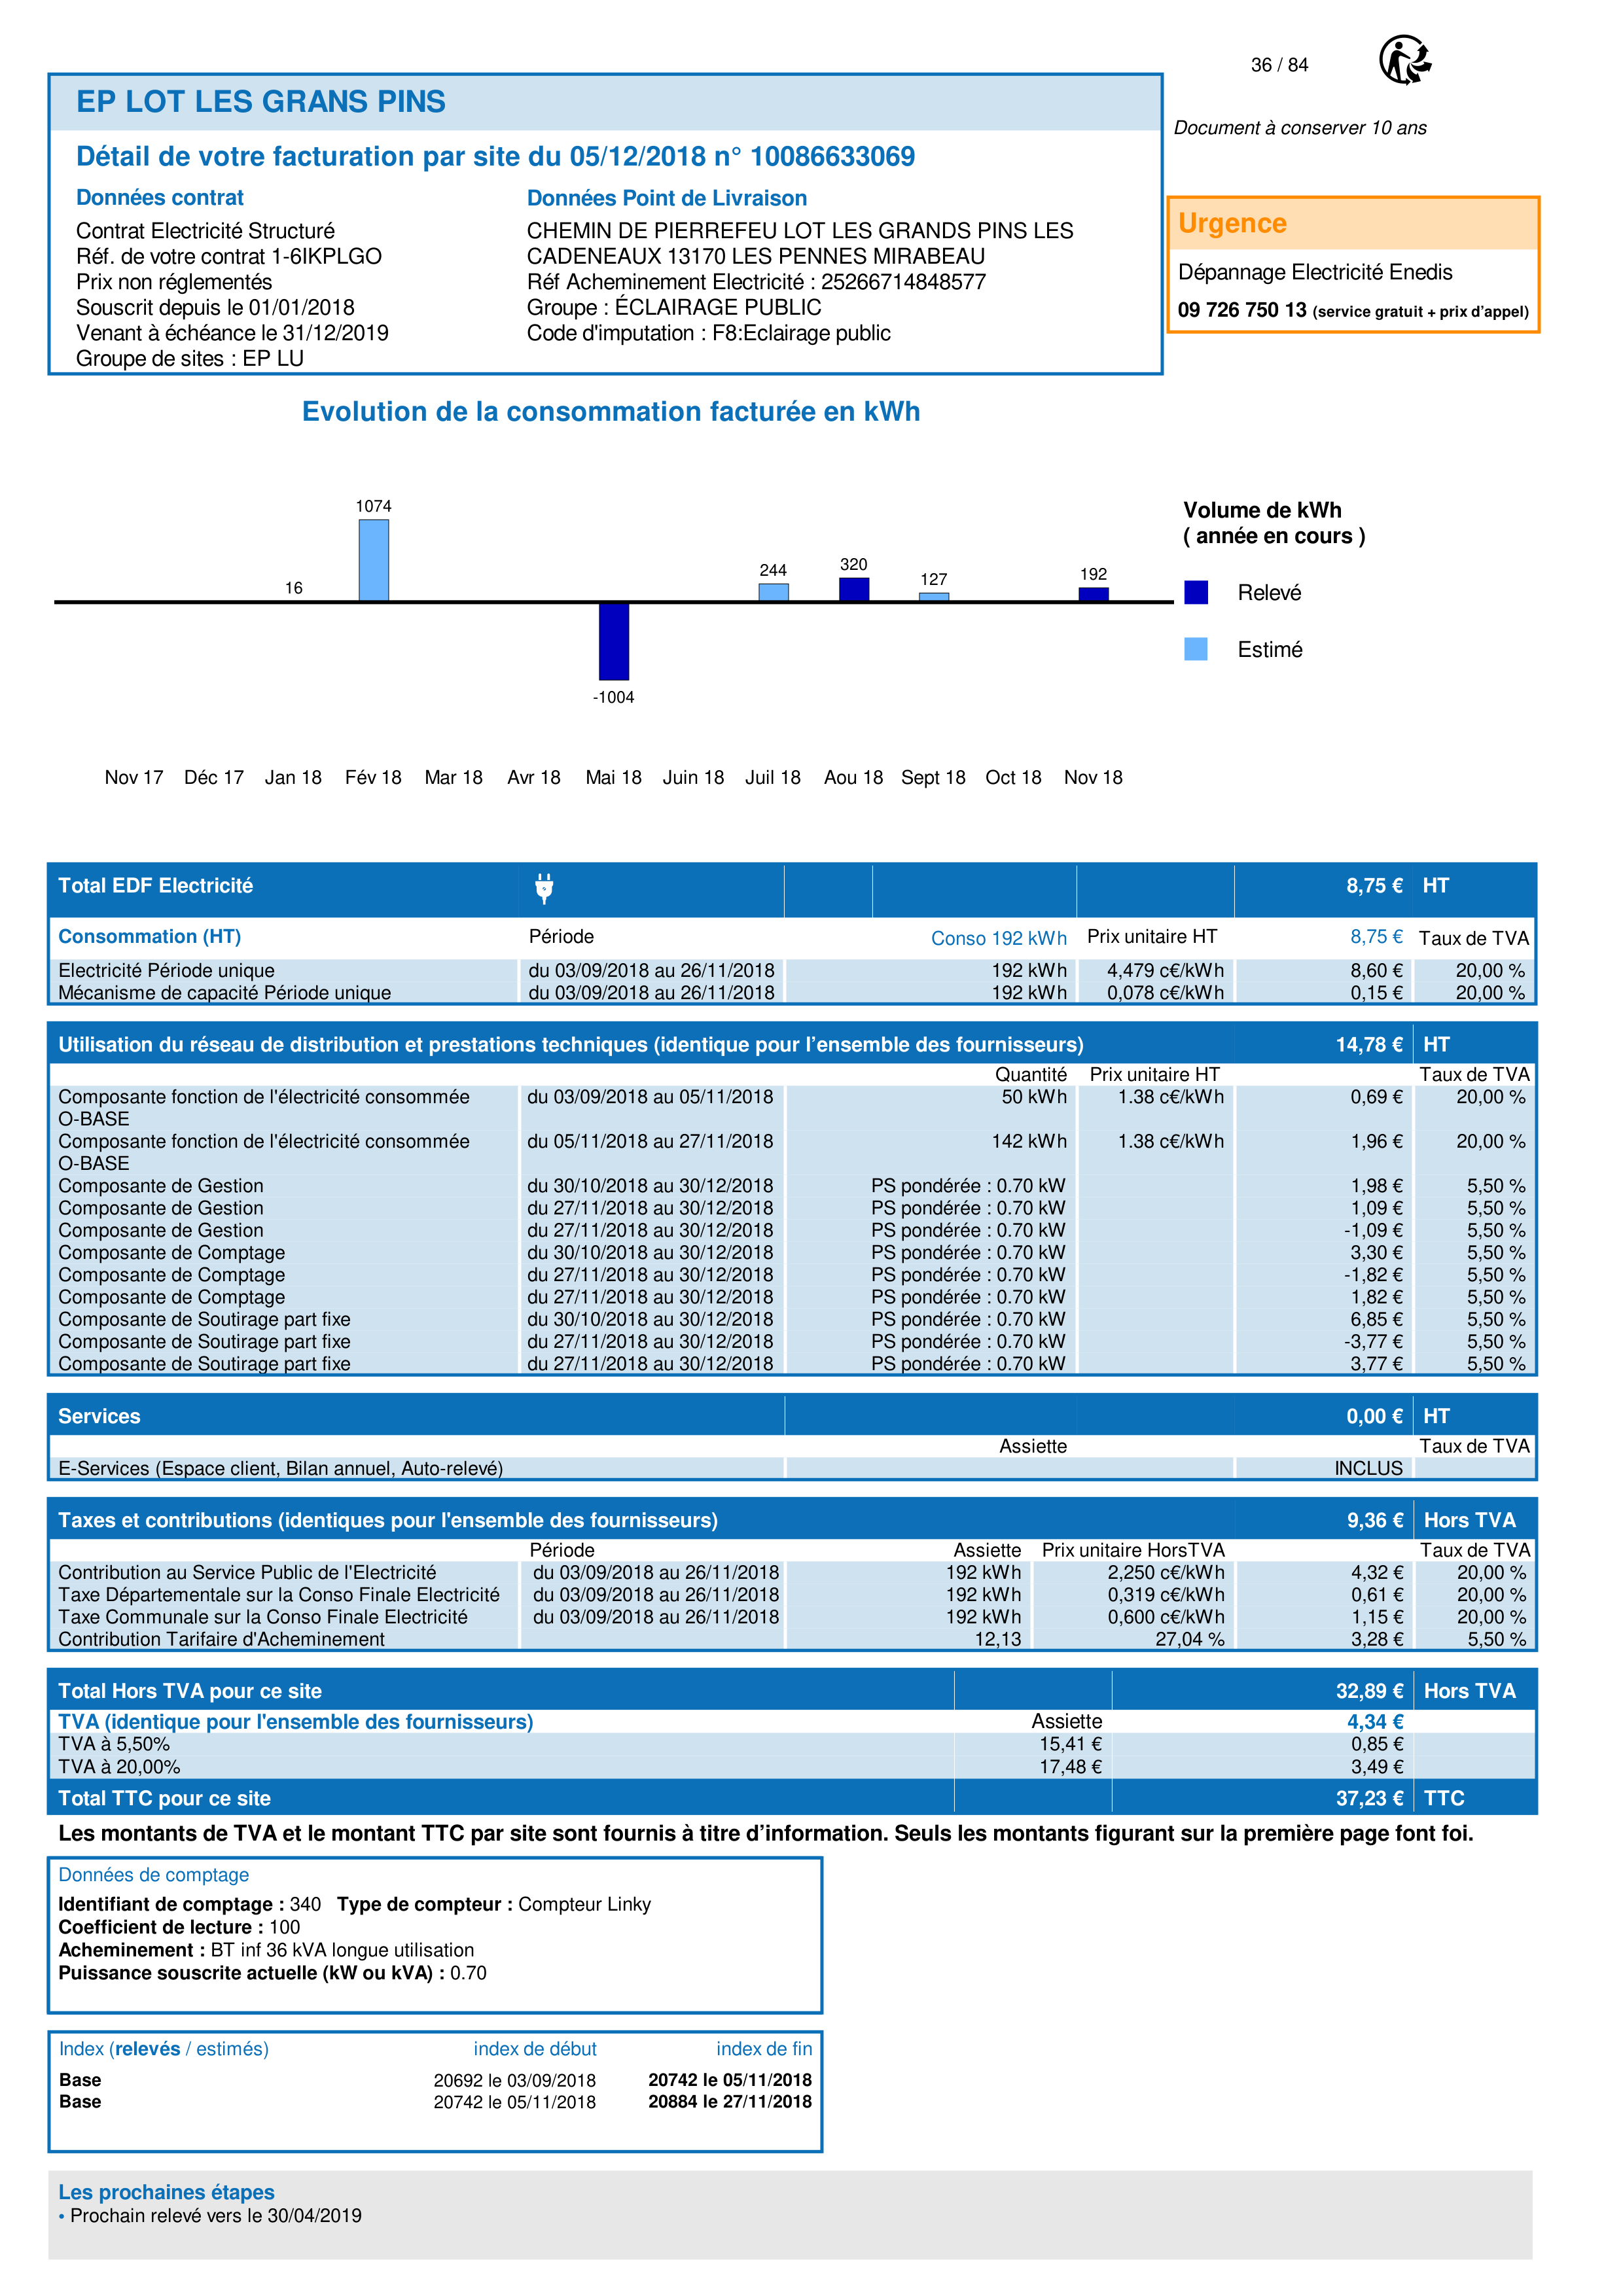area: (47, 2032, 824, 2149)
type_indicator: (46, 2032, 281, 2067)
